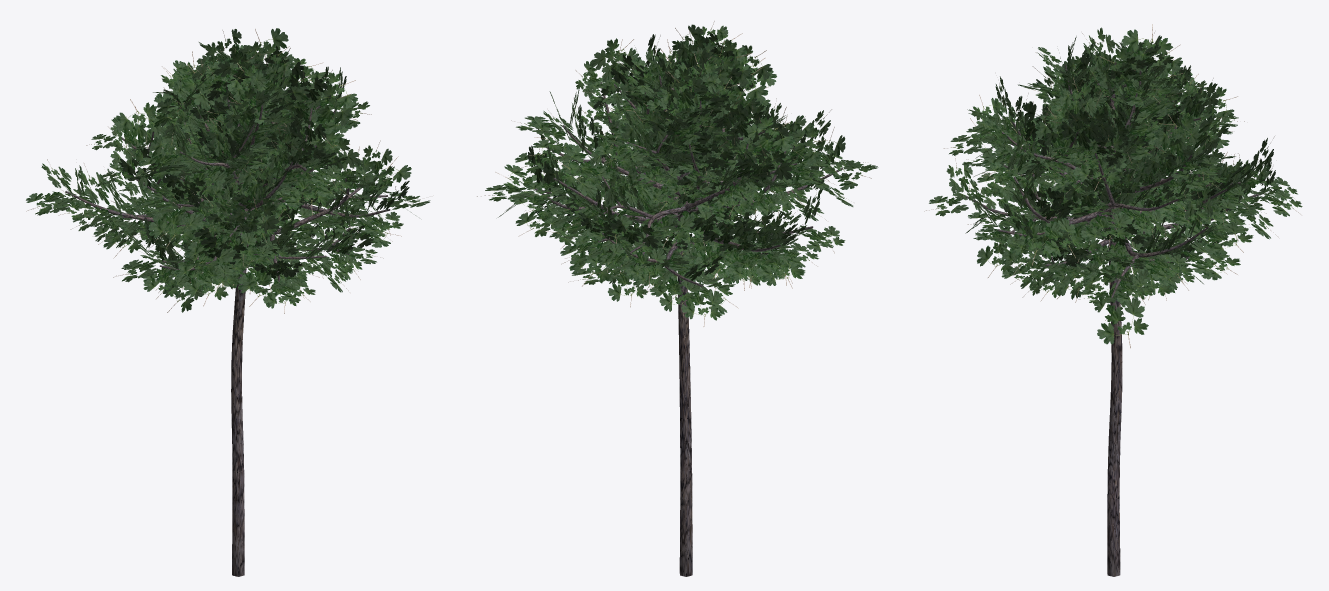
File: tree01.obj
The picture shows the model from 3 angles, left to right: view 1: azimuth 30°, elevation 25°; view 2: azimuth 150°, elevation 25°; view 3: azimuth 270°, elevation 25°; orthographic projection. The views are drawn at different scales.
Visible parts, largest first — view 1: leaves, tree; view 2: leaves, tree; view 3: leaves, tree.
Boxes of the visible parts, left/top/right/bottom form: leaves: left=26, top=28, right=430, bottom=313; tree: left=65, top=78, right=390, bottom=576; leaves: left=477, top=21, right=878, bottom=326; tree: left=534, top=58, right=842, bottom=576; leaves: left=924, top=24, right=1302, bottom=348; tree: left=965, top=62, right=1265, bottom=576.
Bounding box in the file's own units: 5.22 × 7.46 × 4.84.
